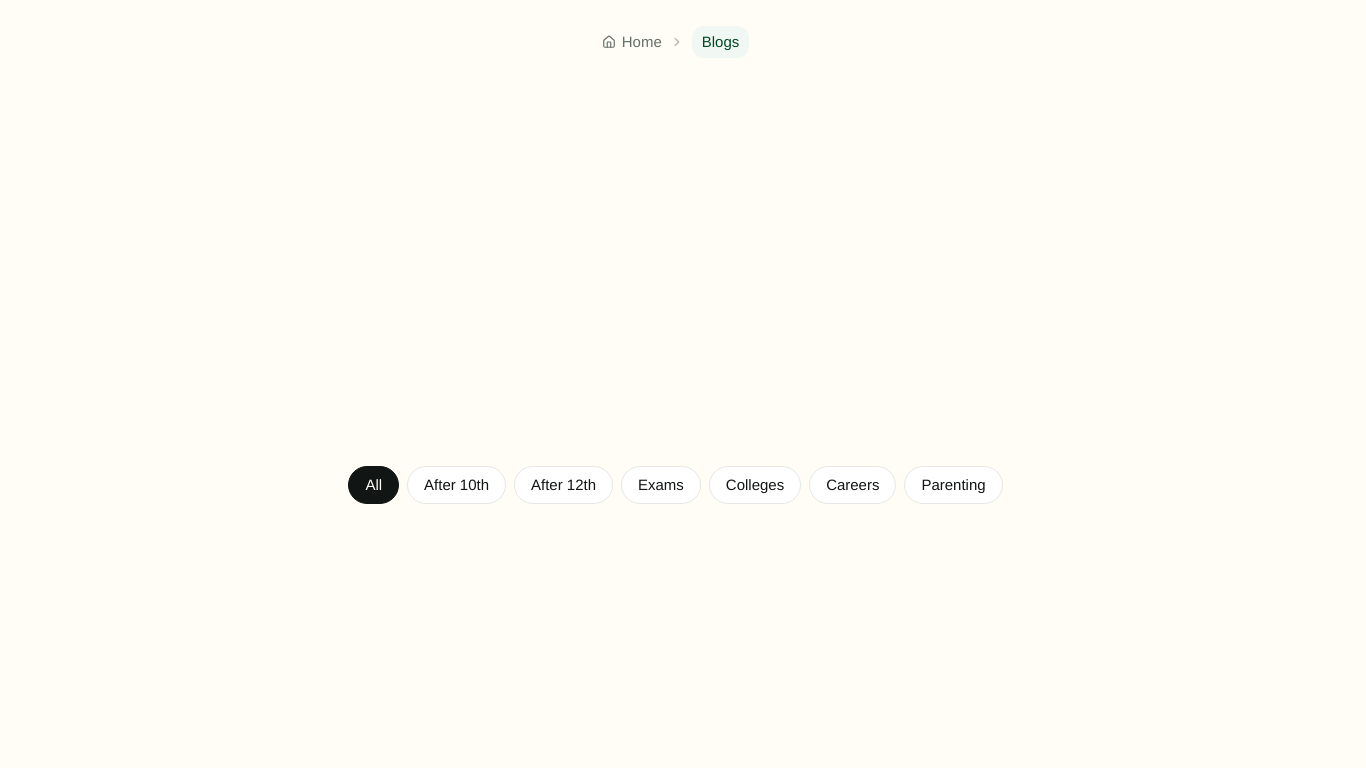
Scenario: Blogs page › filters posts by category
Click the button "Exams" at (661, 485), box [621,466,701,504]
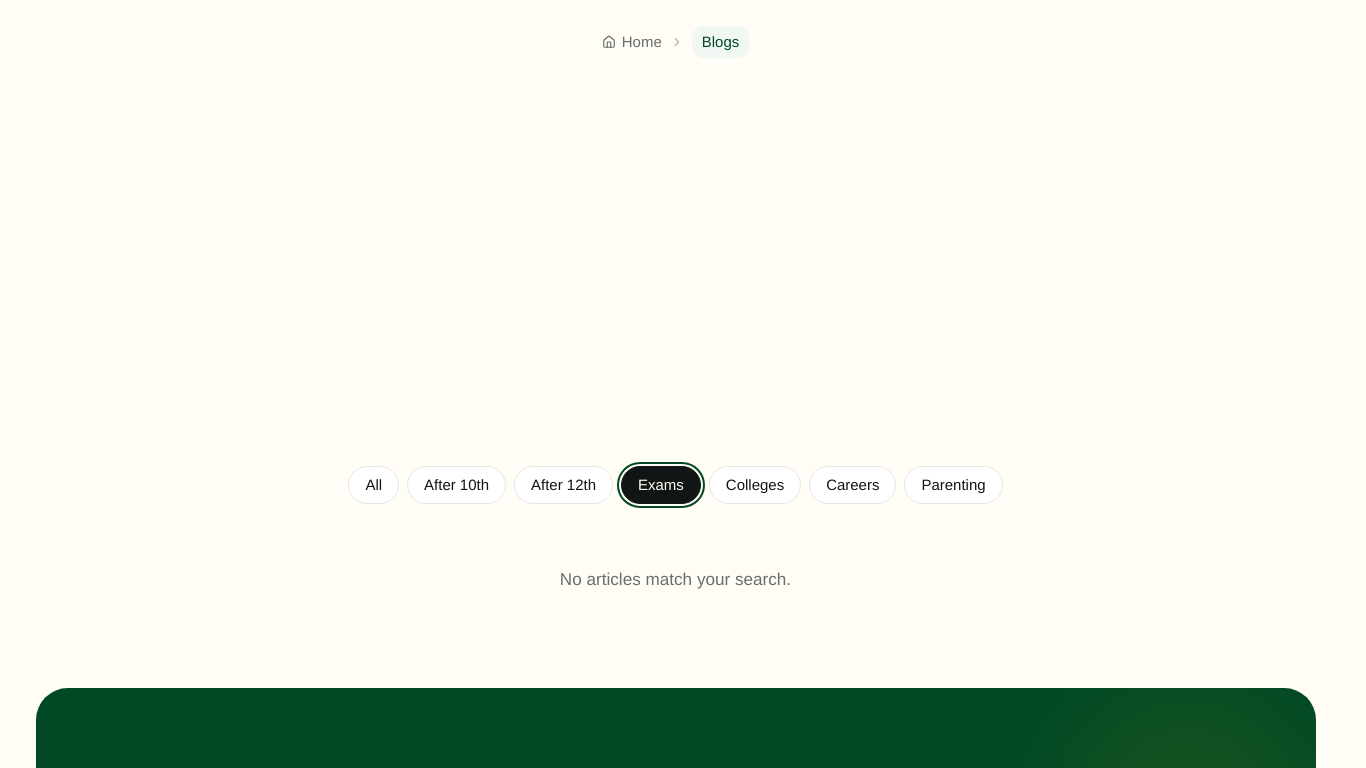
Check: the text "No articles match your search." is shown, box [560,570,791,589]
